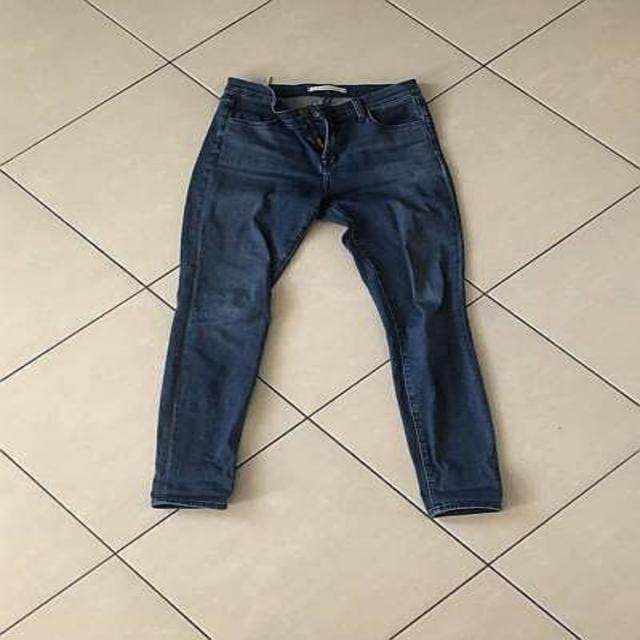TROUSER: (134, 64, 514, 528)
